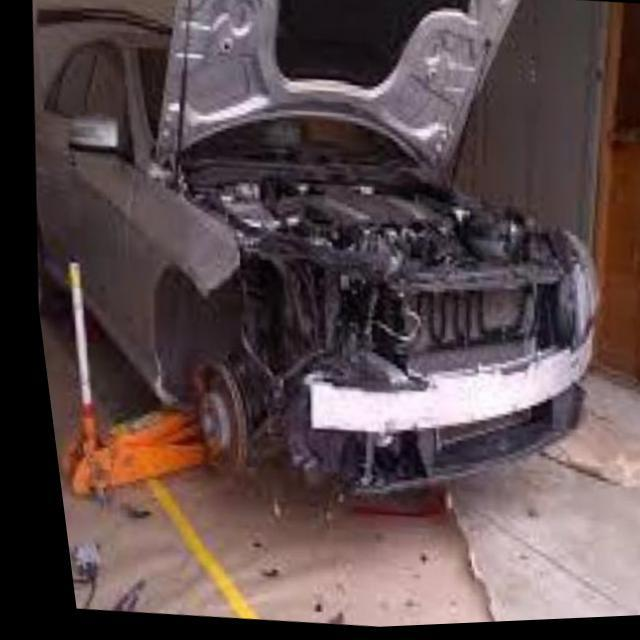no part: (145, 190, 573, 493)
